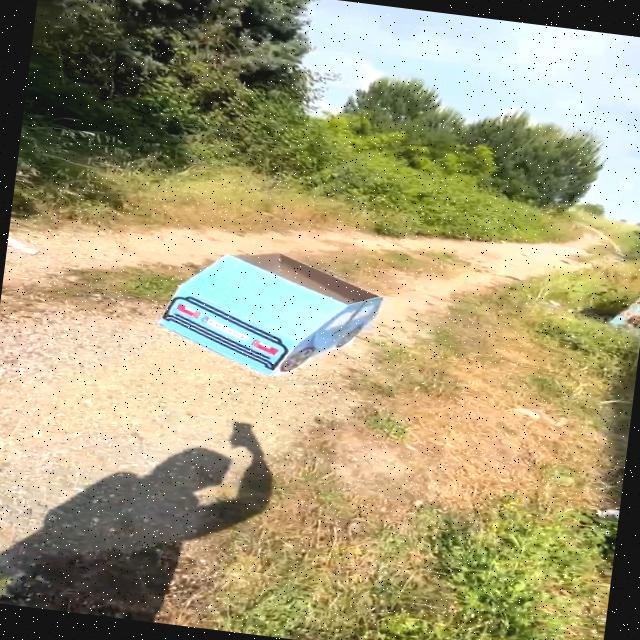blue_car: (143, 232, 396, 394)
